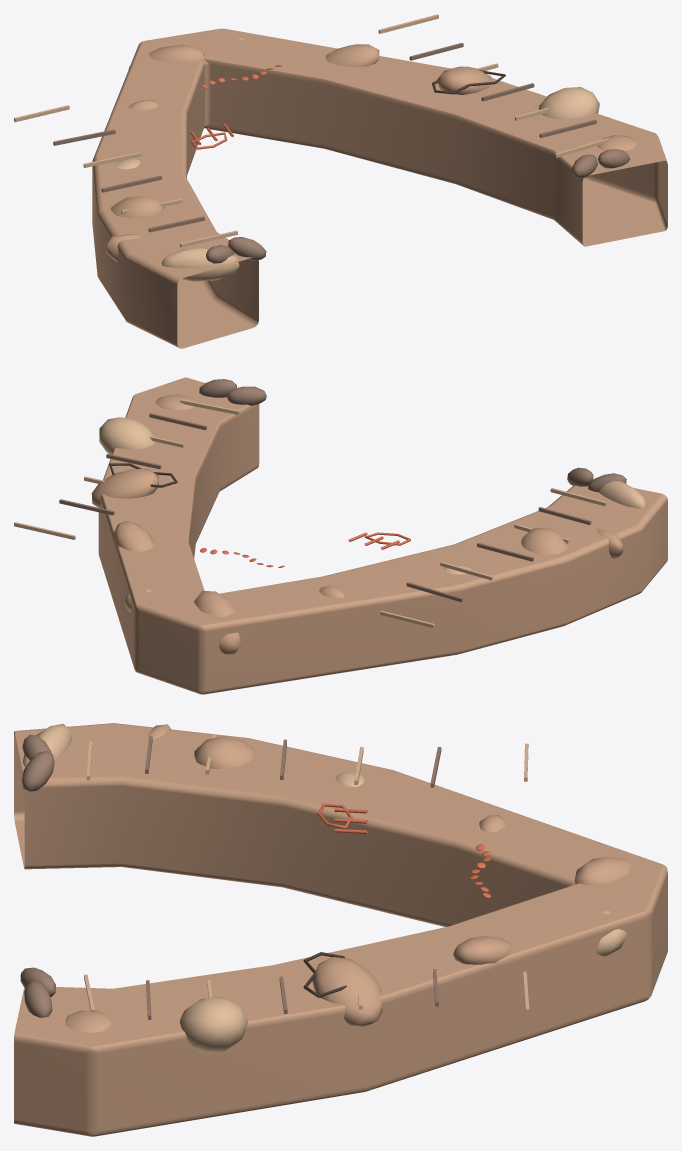
Rendered from rock_shelter_portal.glb.
3 views of the same model, one above another, from view 1: azimuth 30°, elevation 25°; view 2: azimuth 150°, elevation 25°; view 3: azimuth 270°, elevation 25° (orthographic). The views are drawn at different scales.
Visible parts, largest first — view 1: Irregular hollow rock shelter mouth - clear walkable opening, individual rounded shelter stone 09, individual rounded shelter stone 00, individual rounded shelter stone 08, individual rounded shelter stone 07, individual rounded shelter stone 02, individual rounded shelter stone 05, low threshold side stone 01, low threshold side stone 03; view 2: Irregular hollow rock shelter mouth - clear walkable opening, individual rounded shelter stone 08, individual rounded shelter stone 09, individual rounded shelter stone 05, individual rounded shelter stone 02, individual rounded shelter stone 07, individual rounded shelter stone 00, low threshold side stone 02, low threshold side stone 03; view 3: Irregular hollow rock shelter mouth - clear walkable opening, individual rounded shelter stone 08, individual rounded shelter stone 09, individual rounded shelter stone 02, individual rounded shelter stone 07, individual rounded shelter stone 05, low threshold side stone 01, individual rounded shelter stone 10, individual rounded shelter stone 00, low threshold side stone 03.
Part boxes in pixels (left/top/right/bottom): Irregular hollow rock shelter mouth - clear walkable opening: left=92, top=28, right=667, bottom=348; individual rounded shelter stone 09: left=538, top=87, right=599, bottom=119; individual rounded shelter stone 00: left=161, top=248, right=239, bottom=281; individual rounded shelter stone 08: left=437, top=66, right=492, bottom=94; individual rounded shelter stone 07: left=325, top=44, right=379, bottom=66; individual rounded shelter stone 02: left=110, top=195, right=164, bottom=218; individual rounded shelter stone 05: left=128, top=44, right=204, bottom=69; low threshold side stone 01: left=228, top=237, right=266, bottom=260; low threshold side stone 03: left=598, top=149, right=629, bottom=168; Irregular hollow rock shelter mouth - clear walkable opening: left=98, top=377, right=667, bottom=694; individual rounded shelter stone 08: left=91, top=469, right=158, bottom=507; individual rounded shelter stone 09: left=99, top=417, right=155, bottom=454; individual rounded shelter stone 05: left=194, top=591, right=241, bottom=654; individual rounded shelter stone 02: left=521, top=527, right=568, bottom=554; individual rounded shelter stone 07: left=114, top=521, right=153, bottom=551; individual rounded shelter stone 00: left=599, top=481, right=647, bottom=508; low threshold side stone 02: left=227, top=386, right=266, bottom=405; low threshold side stone 03: left=199, top=379, right=236, bottom=397; Irregular hollow rock shelter mouth - clear walkable opening: left=14, top=723, right=667, bottom=1136; individual rounded shelter stone 08: left=312, top=957, right=382, bottom=1027; individual rounded shelter stone 09: left=179, top=997, right=247, bottom=1052; individual rounded shelter stone 02: left=194, top=736, right=255, bottom=768; individual rounded shelter stone 07: left=453, top=936, right=512, bottom=964; individual rounded shelter stone 05: left=574, top=856, right=631, bottom=885; low threshold side stone 01: left=22, top=751, right=54, bottom=792; individual rounded shelter stone 10: left=65, top=1010, right=111, bottom=1032; individual rounded shelter stone 00: left=21, top=723, right=71, bottom=774; low threshold side stone 03: left=24, top=981, right=52, bottom=1017.
Bounding box in the file's own units: 5.75 × 0.9192 × 4.85.
